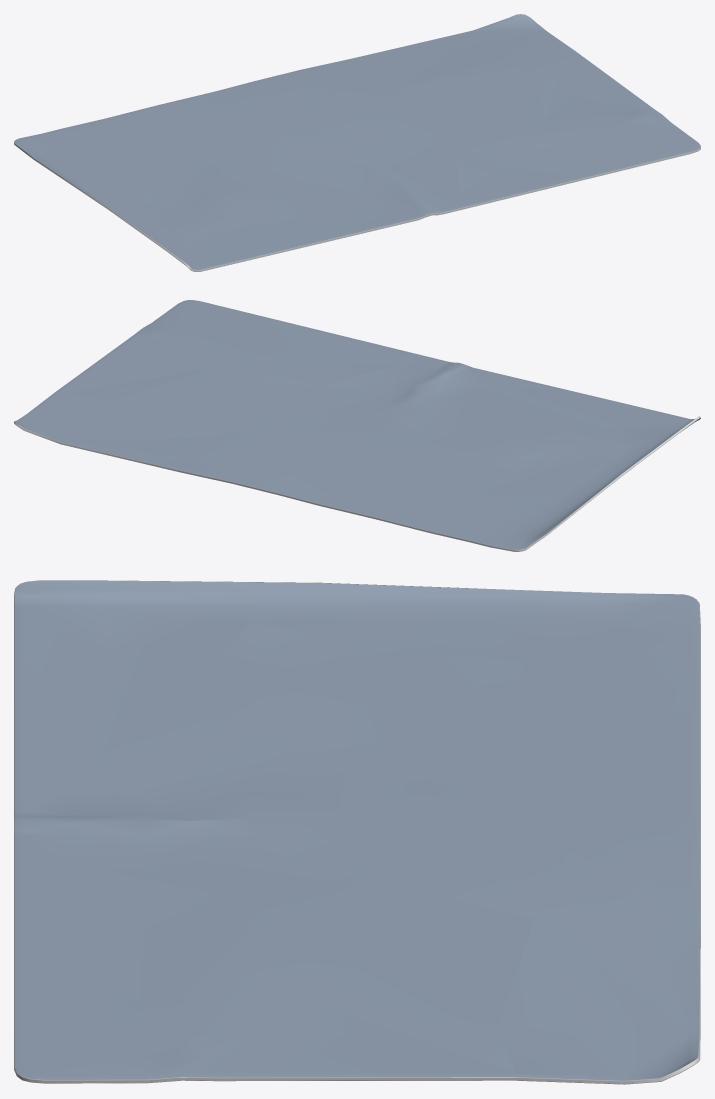
3 renders of one model, top to bottom at view 1: azimuth 30°, elevation 25°; view 2: azimuth 150°, elevation 25°; view 3: azimuth 270°, elevation 25°, orthographic. The views are drawn at different scales.
Visible parts, largest first — view 1: SM_H_Government_Office_Footcloth_11a; view 2: SM_H_Government_Office_Footcloth_11a; view 3: SM_H_Government_Office_Footcloth_11a.
Boxes of the visible parts, <box> form: SM_H_Government_Office_Footcloth_11a: <box>14,14,700,271</box>; SM_H_Government_Office_Footcloth_11a: <box>14,300,700,551</box>; SM_H_Government_Office_Footcloth_11a: <box>14,580,700,1084</box>.
Size of the model in its own units: 119 by 197 by 4.45.
